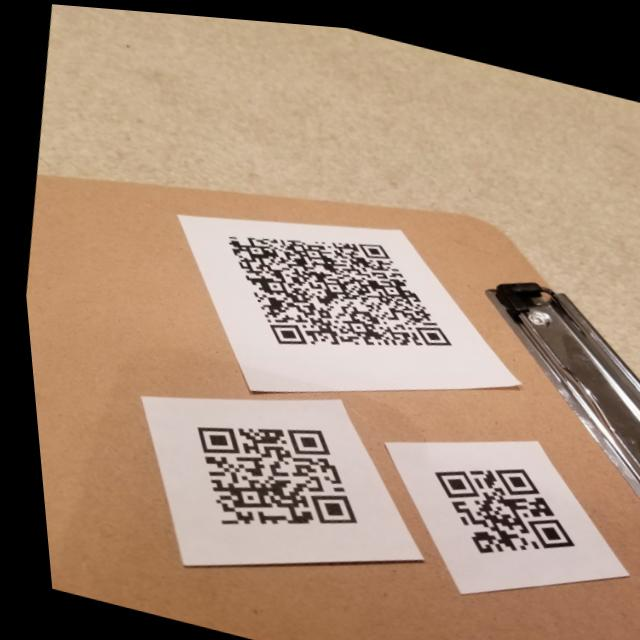QR_CODE: (194, 195, 471, 388), (159, 385, 376, 566), (402, 432, 586, 580)
